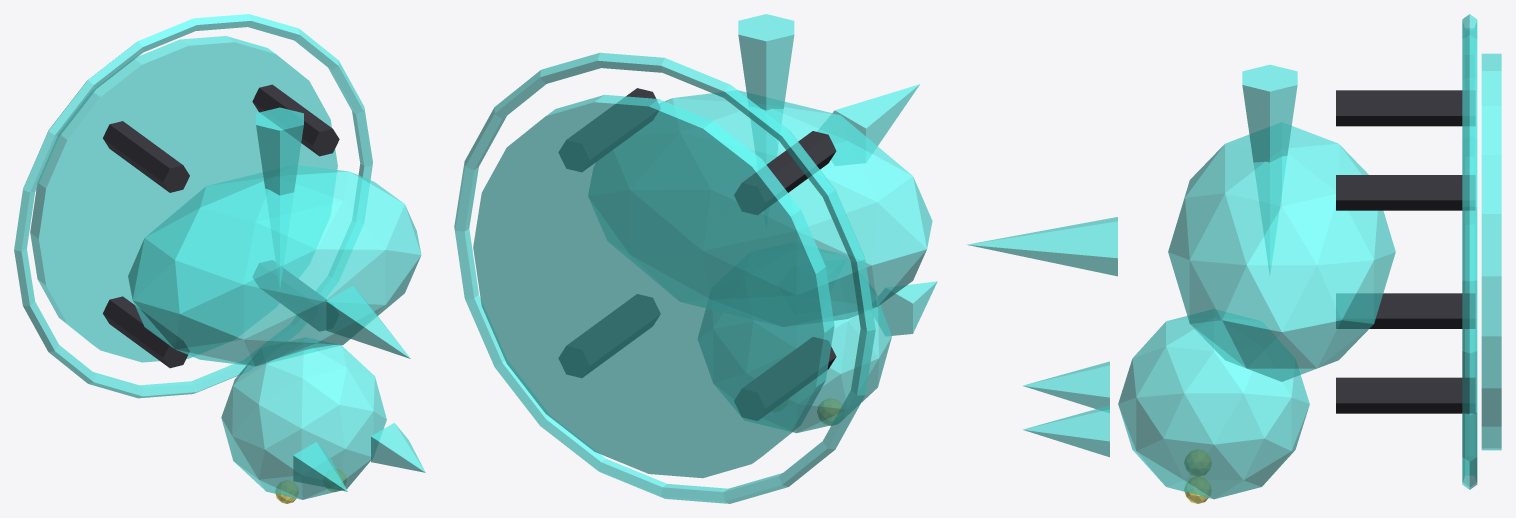
The model's file is 03_crystal_familiar.glb.
3 renders of one model, left to right at view 1: azimuth 30°, elevation 25°; view 2: azimuth 150°, elevation 25°; view 3: azimuth 270°, elevation 25°, orthographic. The views are drawn at different scales.
Visible parts, largest first — view 1: base_disc, body, head, base_ring, tail, leg_bl, leg_br, leg_fl, back_crystal, leg_fr, ear_l, ear_r; view 2: base_disc, body, base_ring, head, tail, back_crystal, leg_bl, leg_br, leg_fl, leg_fr, ear_l; view 3: body, head, base_disc, base_ring, tail, leg_fr, leg_bl, leg_fl, leg_br, back_crystal, ear_r, ear_l.
Boxes of the visible parts, x1,y1,x2,y2 form: base_disc: (30,36,337,362); body: (128,165,421,366); head: (221,338,386,499); base_ring: (14,14,372,398); tail: (256,107,303,285); leg_bl: (103,121,189,192); leg_br: (252,84,339,156); leg_fl: (103,296,189,368); back_crystal: (326,286,410,358); leg_fr: (253,260,326,331); ear_l: (293,442,347,491); ear_r: (371,423,425,472); base_disc: (473,94,834,478); body: (588,90,932,326); base_ring: (454,52,875,503); head: (698,249,891,433); tail: (738,14,794,163); back_crystal: (817,84,919,165); leg_bl: (734,131,836,214); leg_br: (559,88,660,171); leg_fl: (734,337,836,420); leg_fr: (559,294,660,377); ear_l: (873,281,937,335); body: (1168,123,1395,381); head: (1118,309,1309,499); base_disc: (1481,53,1501,450); base_ring: (1462,14,1477,489); tail: (1242,64,1297,271); leg_fr: (1336,377,1475,413); leg_bl: (1336,90,1475,126); leg_fl: (1336,293,1475,328); leg_br: (1336,175,1475,210); back_crystal: (967,217,1117,276); ear_r: (1023,405,1109,457); ear_l: (1022,361,1109,412).
Size of the model in its own units: 1.2 by 1.26 by 1.34.
